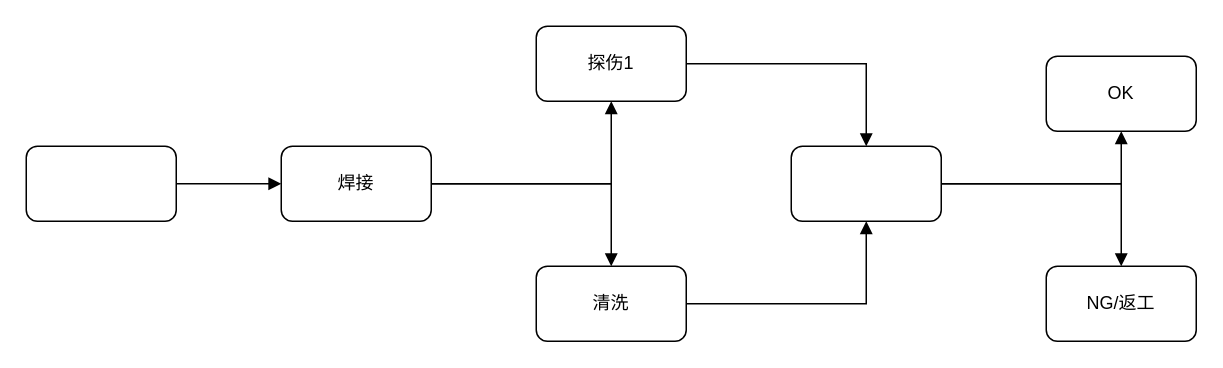
The diagram is 1223 pixels wide and 368 high, and some of its shapes have lost their labels. Here are the shapes that lost their labels. From the top down, the centre of each, then its label:
(x=100, y=183): 原材料
(x=865, y=183): 终检
